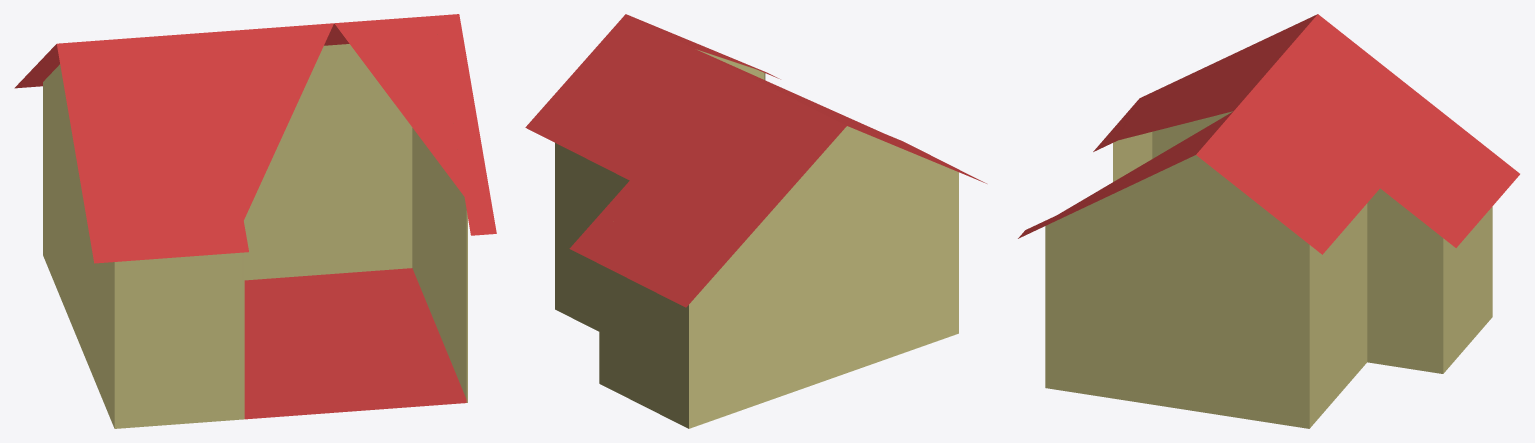
3 views of the same model, side by side, from view 1: azimuth 30°, elevation 25°; view 2: azimuth 150°, elevation 25°; view 3: azimuth 270°, elevation 25° (orthographic). The views are drawn at different scales.
Bounding box in the file's own units: 15.38 × 17.39 × 10.15.
